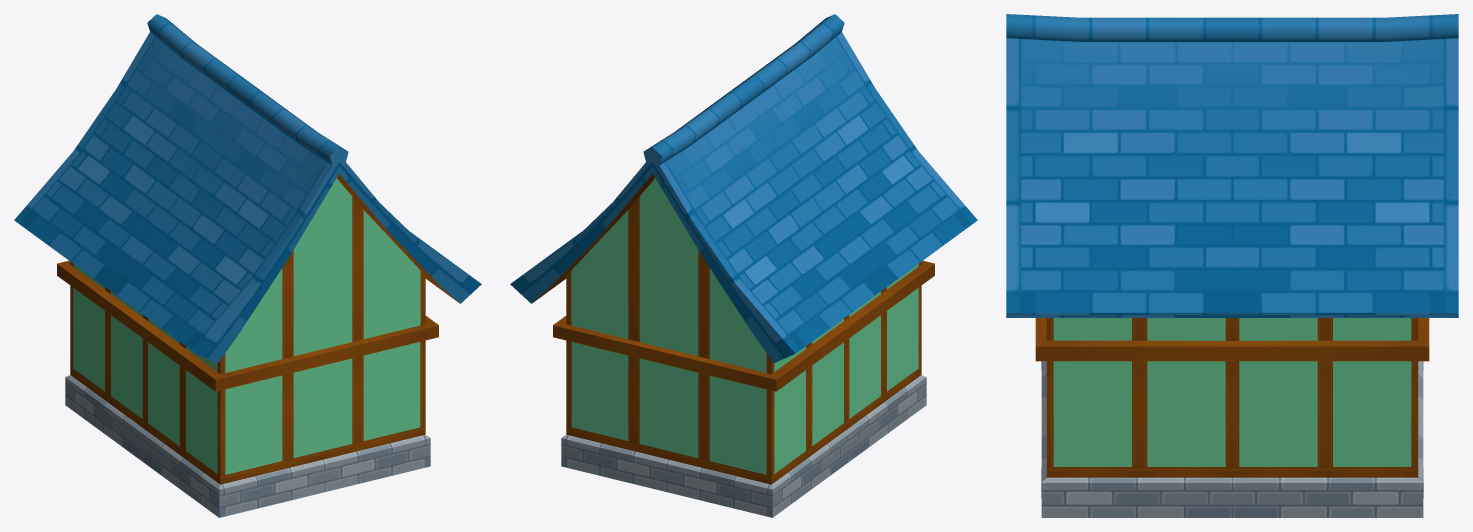
Rendered from BLD0810002.fbx.
3 renders of one model, left to right at view 1: azimuth 30°, elevation 25°; view 2: azimuth 150°, elevation 25°; view 3: azimuth 270°, elevation 25°, orthographic. The views are drawn at different scales.
Visible parts, largest first — view 1: smBLD0810002; view 2: smBLD0810002; view 3: smBLD0810002.
Part boxes in pixels (x1,y1,x2,y2): smBLD0810002: (14,14,481,517); smBLD0810002: (510,14,977,517); smBLD0810002: (1006,14,1458,517).
Size of the model in its own units: 502 by 597 by 556.
1 material, 1 textured.
